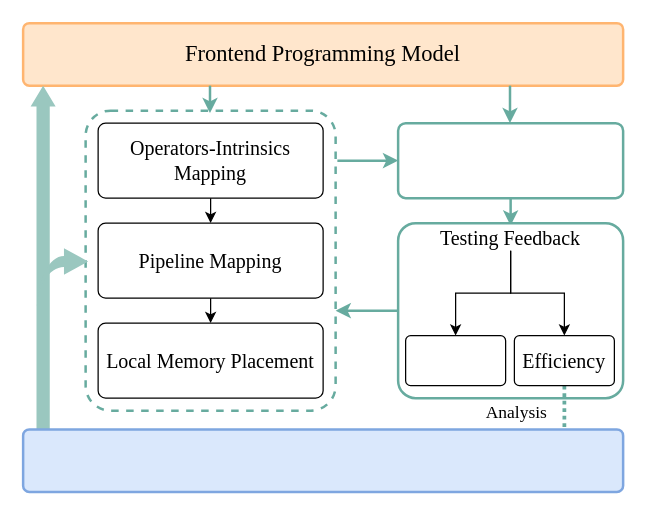
This 645x514 diagram has some shape labels left out. Here are the shapes that lost their labels. From the top down, the centre of each, then its label:
At point (510, 160): "Kernel Implementation".
At point (455, 360): "Correctness".
At point (322, 460): "Hardware Hierarchy & Kernel Intrinsics".
